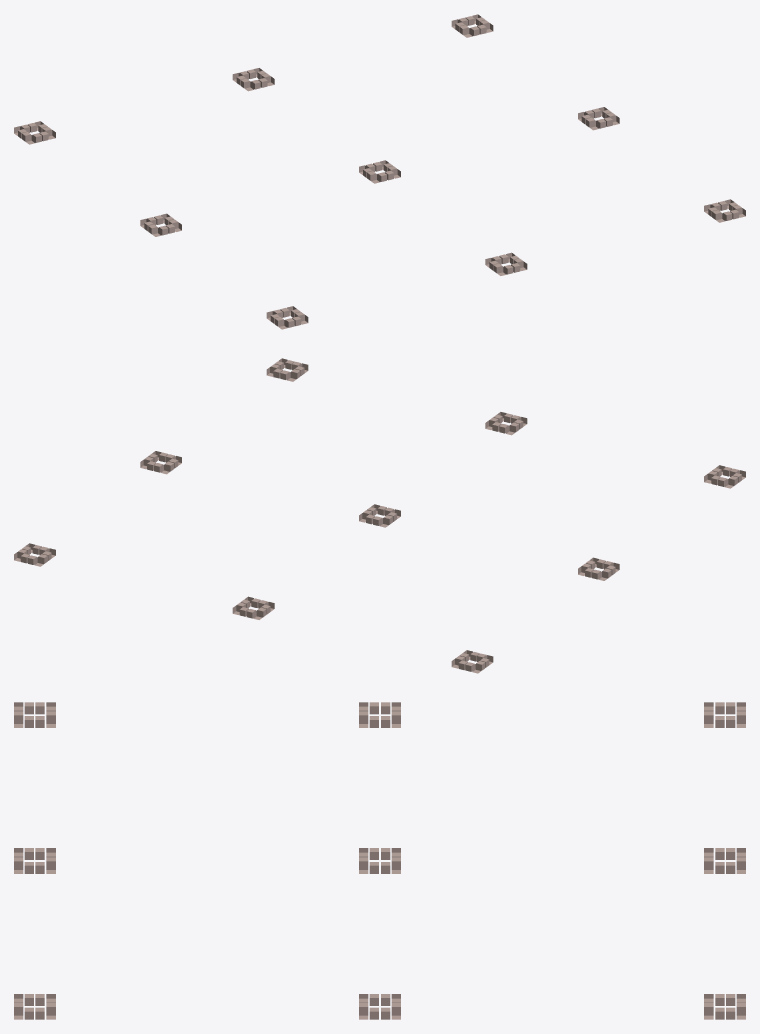
3 views of the same model, one above another, from view 1: azimuth 30°, elevation 25°; view 2: azimuth 150°, elevation 25°; view 3: azimuth 270°, elevation 25° (orthographic). The views are drawn at different scales.
Size of the model in its own units: 4.07 by 0.0497 by 4.07.
